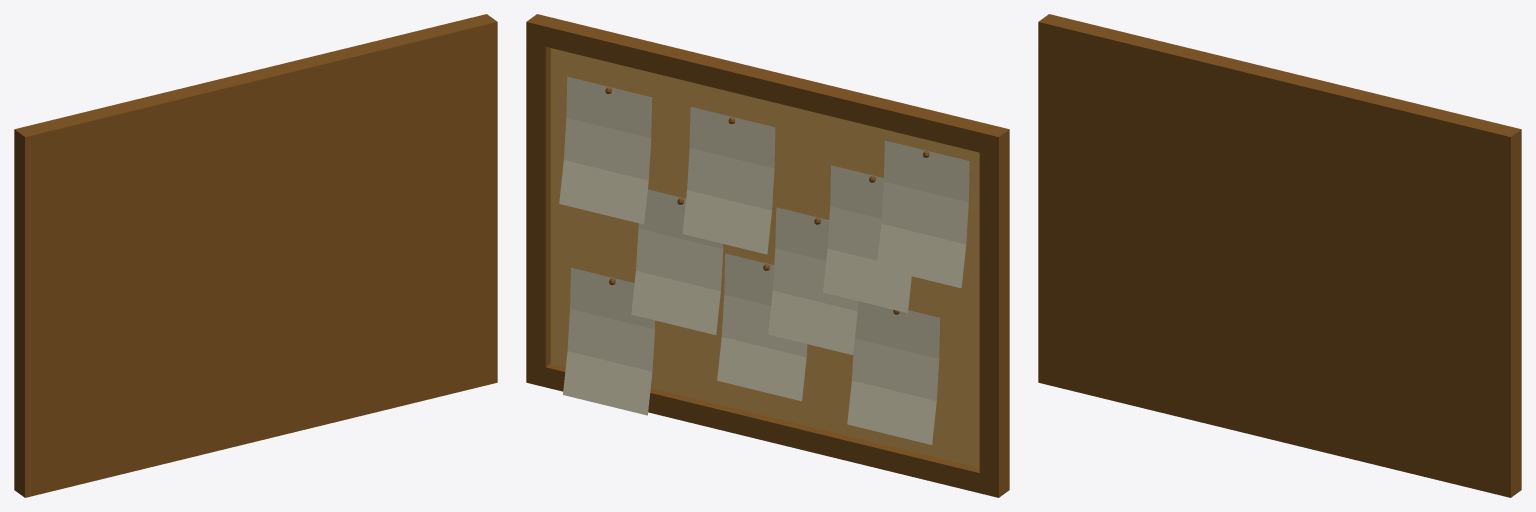
File: pandemonium_bulletin.fbx
3 views of the same model, side by side, from view 1: azimuth 30°, elevation 25°; view 2: azimuth 150°, elevation 25°; view 3: azimuth 330°, elevation 25° (orthographic).
Parts seen in each view (by area): view 1: Cube.354; view 2: Cube.354; view 3: Cube.354.
Part boxes in pixels (x1=…): Cube.354: x1=14, y1=14, x2=497, y2=497; Cube.354: x1=526, y1=14, x2=1009, y2=497; Cube.354: x1=1038, y1=14, x2=1521, y2=497.
Size of the model in its own units: 251 by 183 by 12.73.
